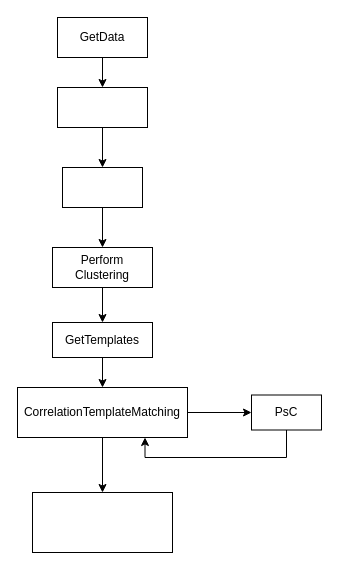
Some shapes in this 339 by 570 pixel diagram are drawn without their labels. Each missing label, with the centre of its shape:
EvaluatePerformance: pixel 102 522
GetSpikes: pixel 102 187
Set Parameters: pixel 102 107
